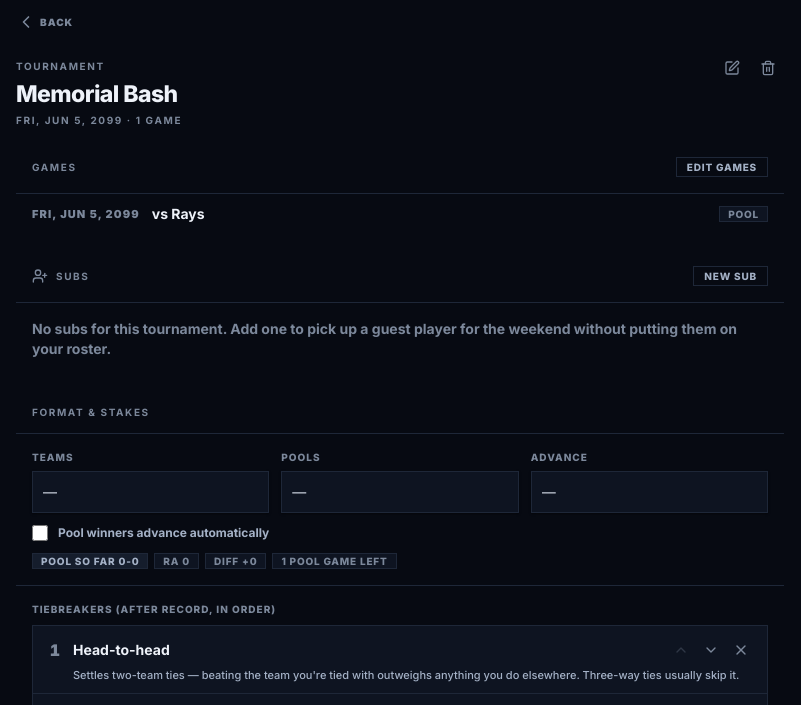
TournamentDetailPage › excludes games claimed by another tournament from the candidates
Click the button "Edit games": x=722, y=167 [676, 157, 768, 177]
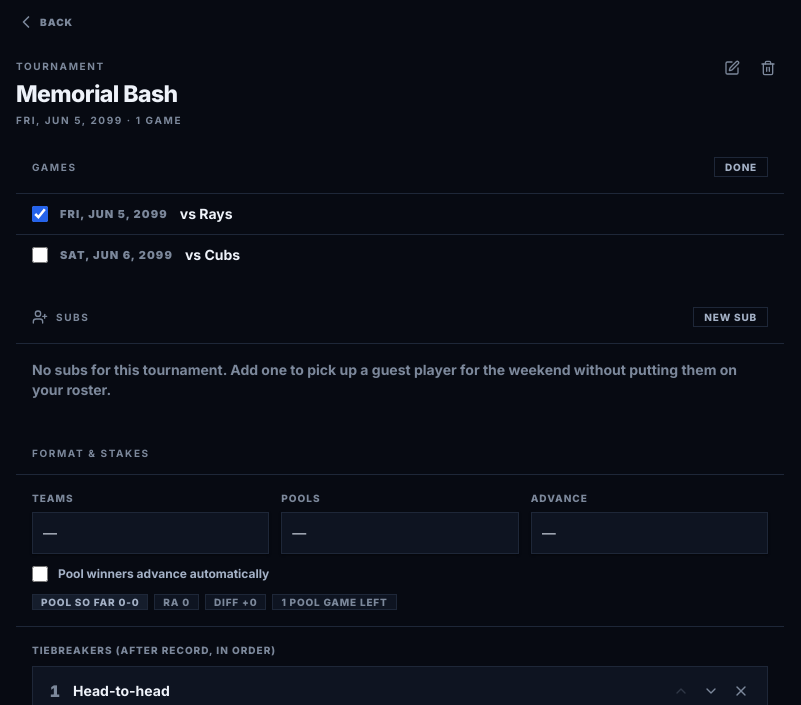
Check: the checkbox labelled "Fri, Jun 5, 2099 vs Rays" is checked, box [32, 206, 48, 222]
Check: the checkbox labelled "Sat, Jun 6, 2099 vs Cubs" is not checked, box [32, 247, 48, 263]
